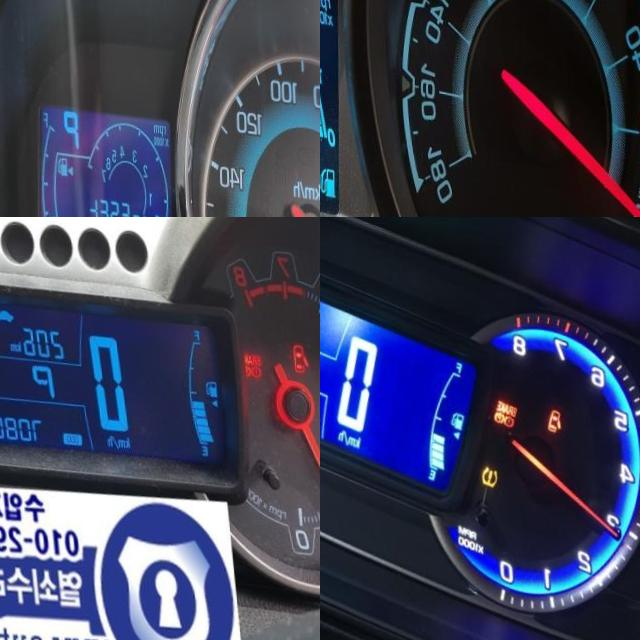Doors: (290, 329, 310, 362), (545, 395, 564, 422)
